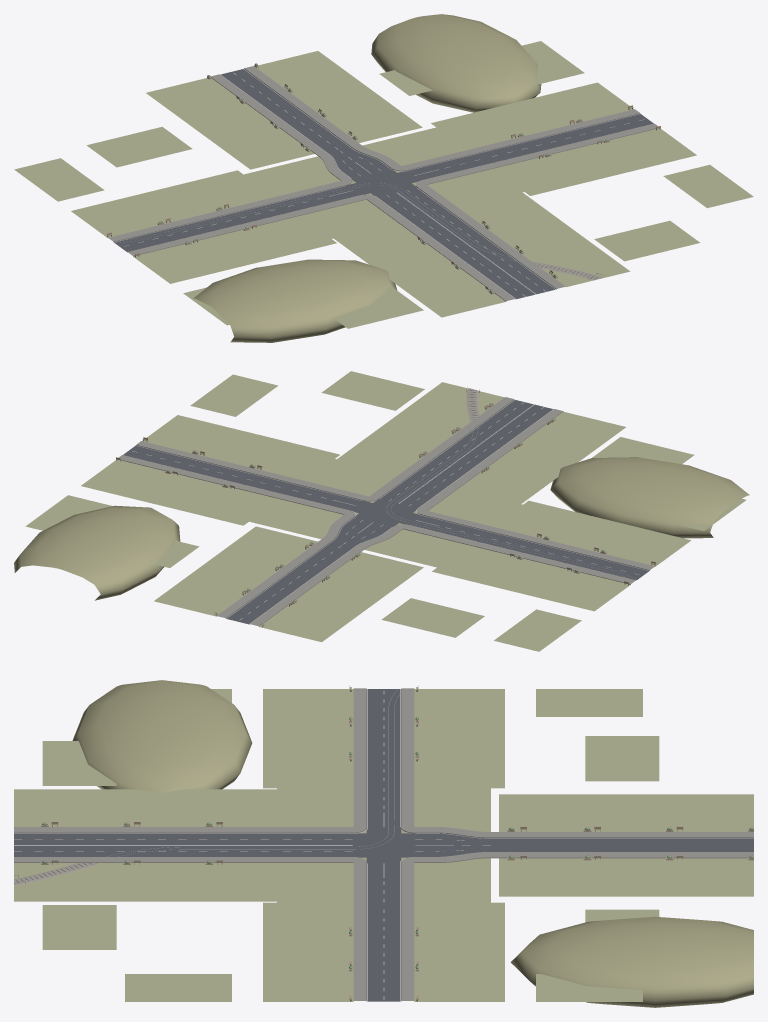
3 renders of one model, top to bottom at view 1: azimuth 30°, elevation 25°; view 2: azimuth 150°, elevation 25°; view 3: azimuth 270°, elevation 25°, orthographic. The views are drawn at different scales.
Parts seen in each view (by area): view 1: static; view 2: static; view 3: static.
Part boxes in pixels (bbox=[...]): static: bbox=[14, 14, 753, 342]; static: bbox=[14, 371, 749, 651]; static: bbox=[14, 680, 753, 1007].
Size of what is drawn, in the model's own units: 180 by 14.08 by 180.
